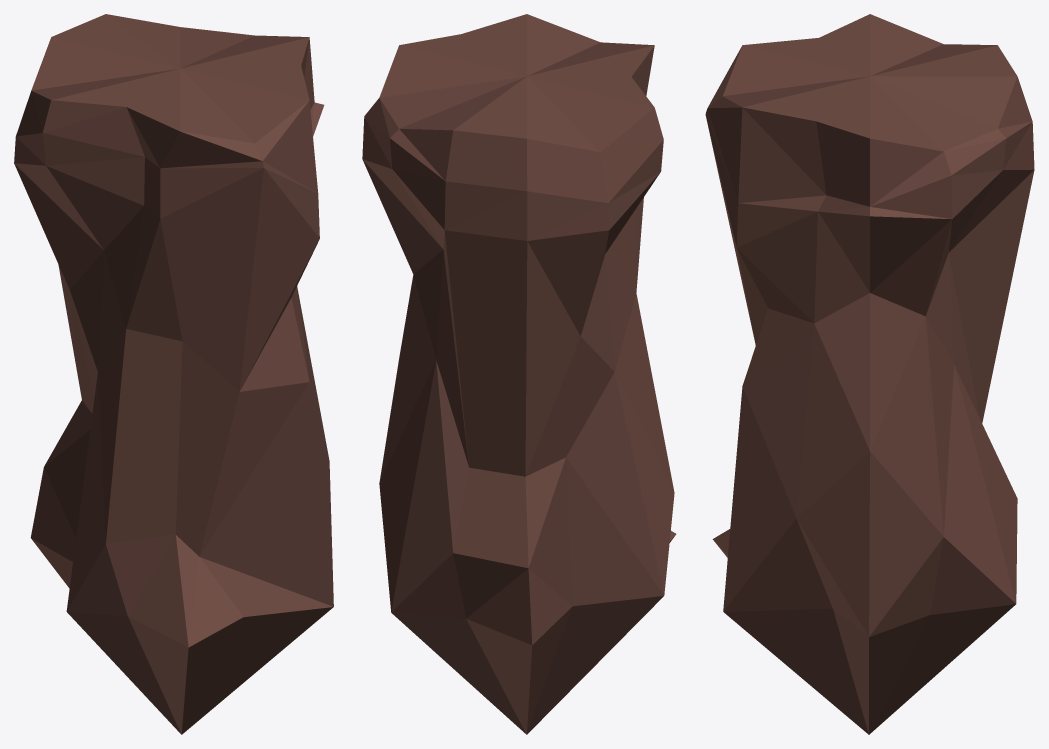
Rendered from CliffWall.fbx.
The picture shows the model from 3 angles, left to right: view 1: azimuth 30°, elevation 25°; view 2: azimuth 150°, elevation 25°; view 3: azimuth 270°, elevation 25°; orthographic projection.
Parts seen in each view (by area): view 1: CliffWall78; view 2: CliffWall78; view 3: CliffWall78.
Part boxes in pixels (x1=…): CliffWall78: x1=14, y1=14, x2=333, y2=734; CliffWall78: x1=362, y1=14, x2=676, y2=734; CliffWall78: x1=705, y1=14, x2=1034, y2=734.
Size of the model in its own units: 21.83 by 49.27 by 22.32.
